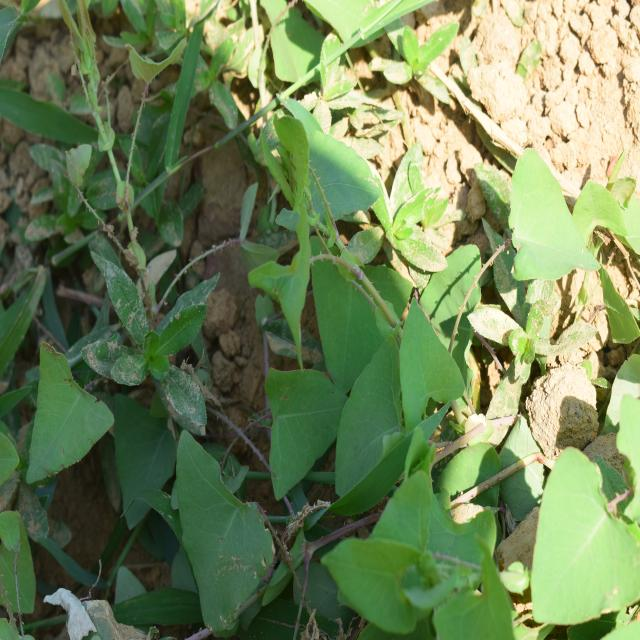Asiatic_Smartweed: (222, 128, 470, 482), (324, 471, 523, 633), (528, 441, 640, 609)
